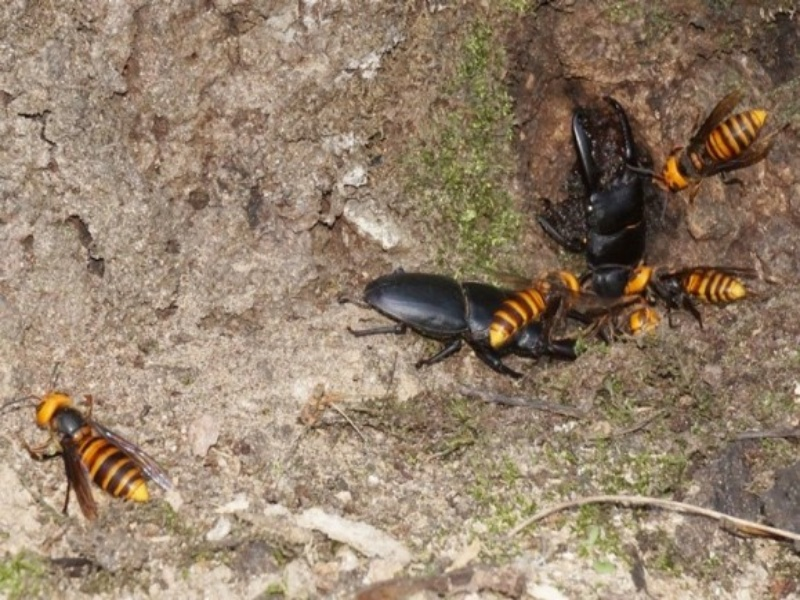asian_giant_hornet: (25, 380, 155, 506), (654, 102, 772, 202), (488, 267, 586, 352), (619, 254, 752, 314), (594, 306, 658, 348)
